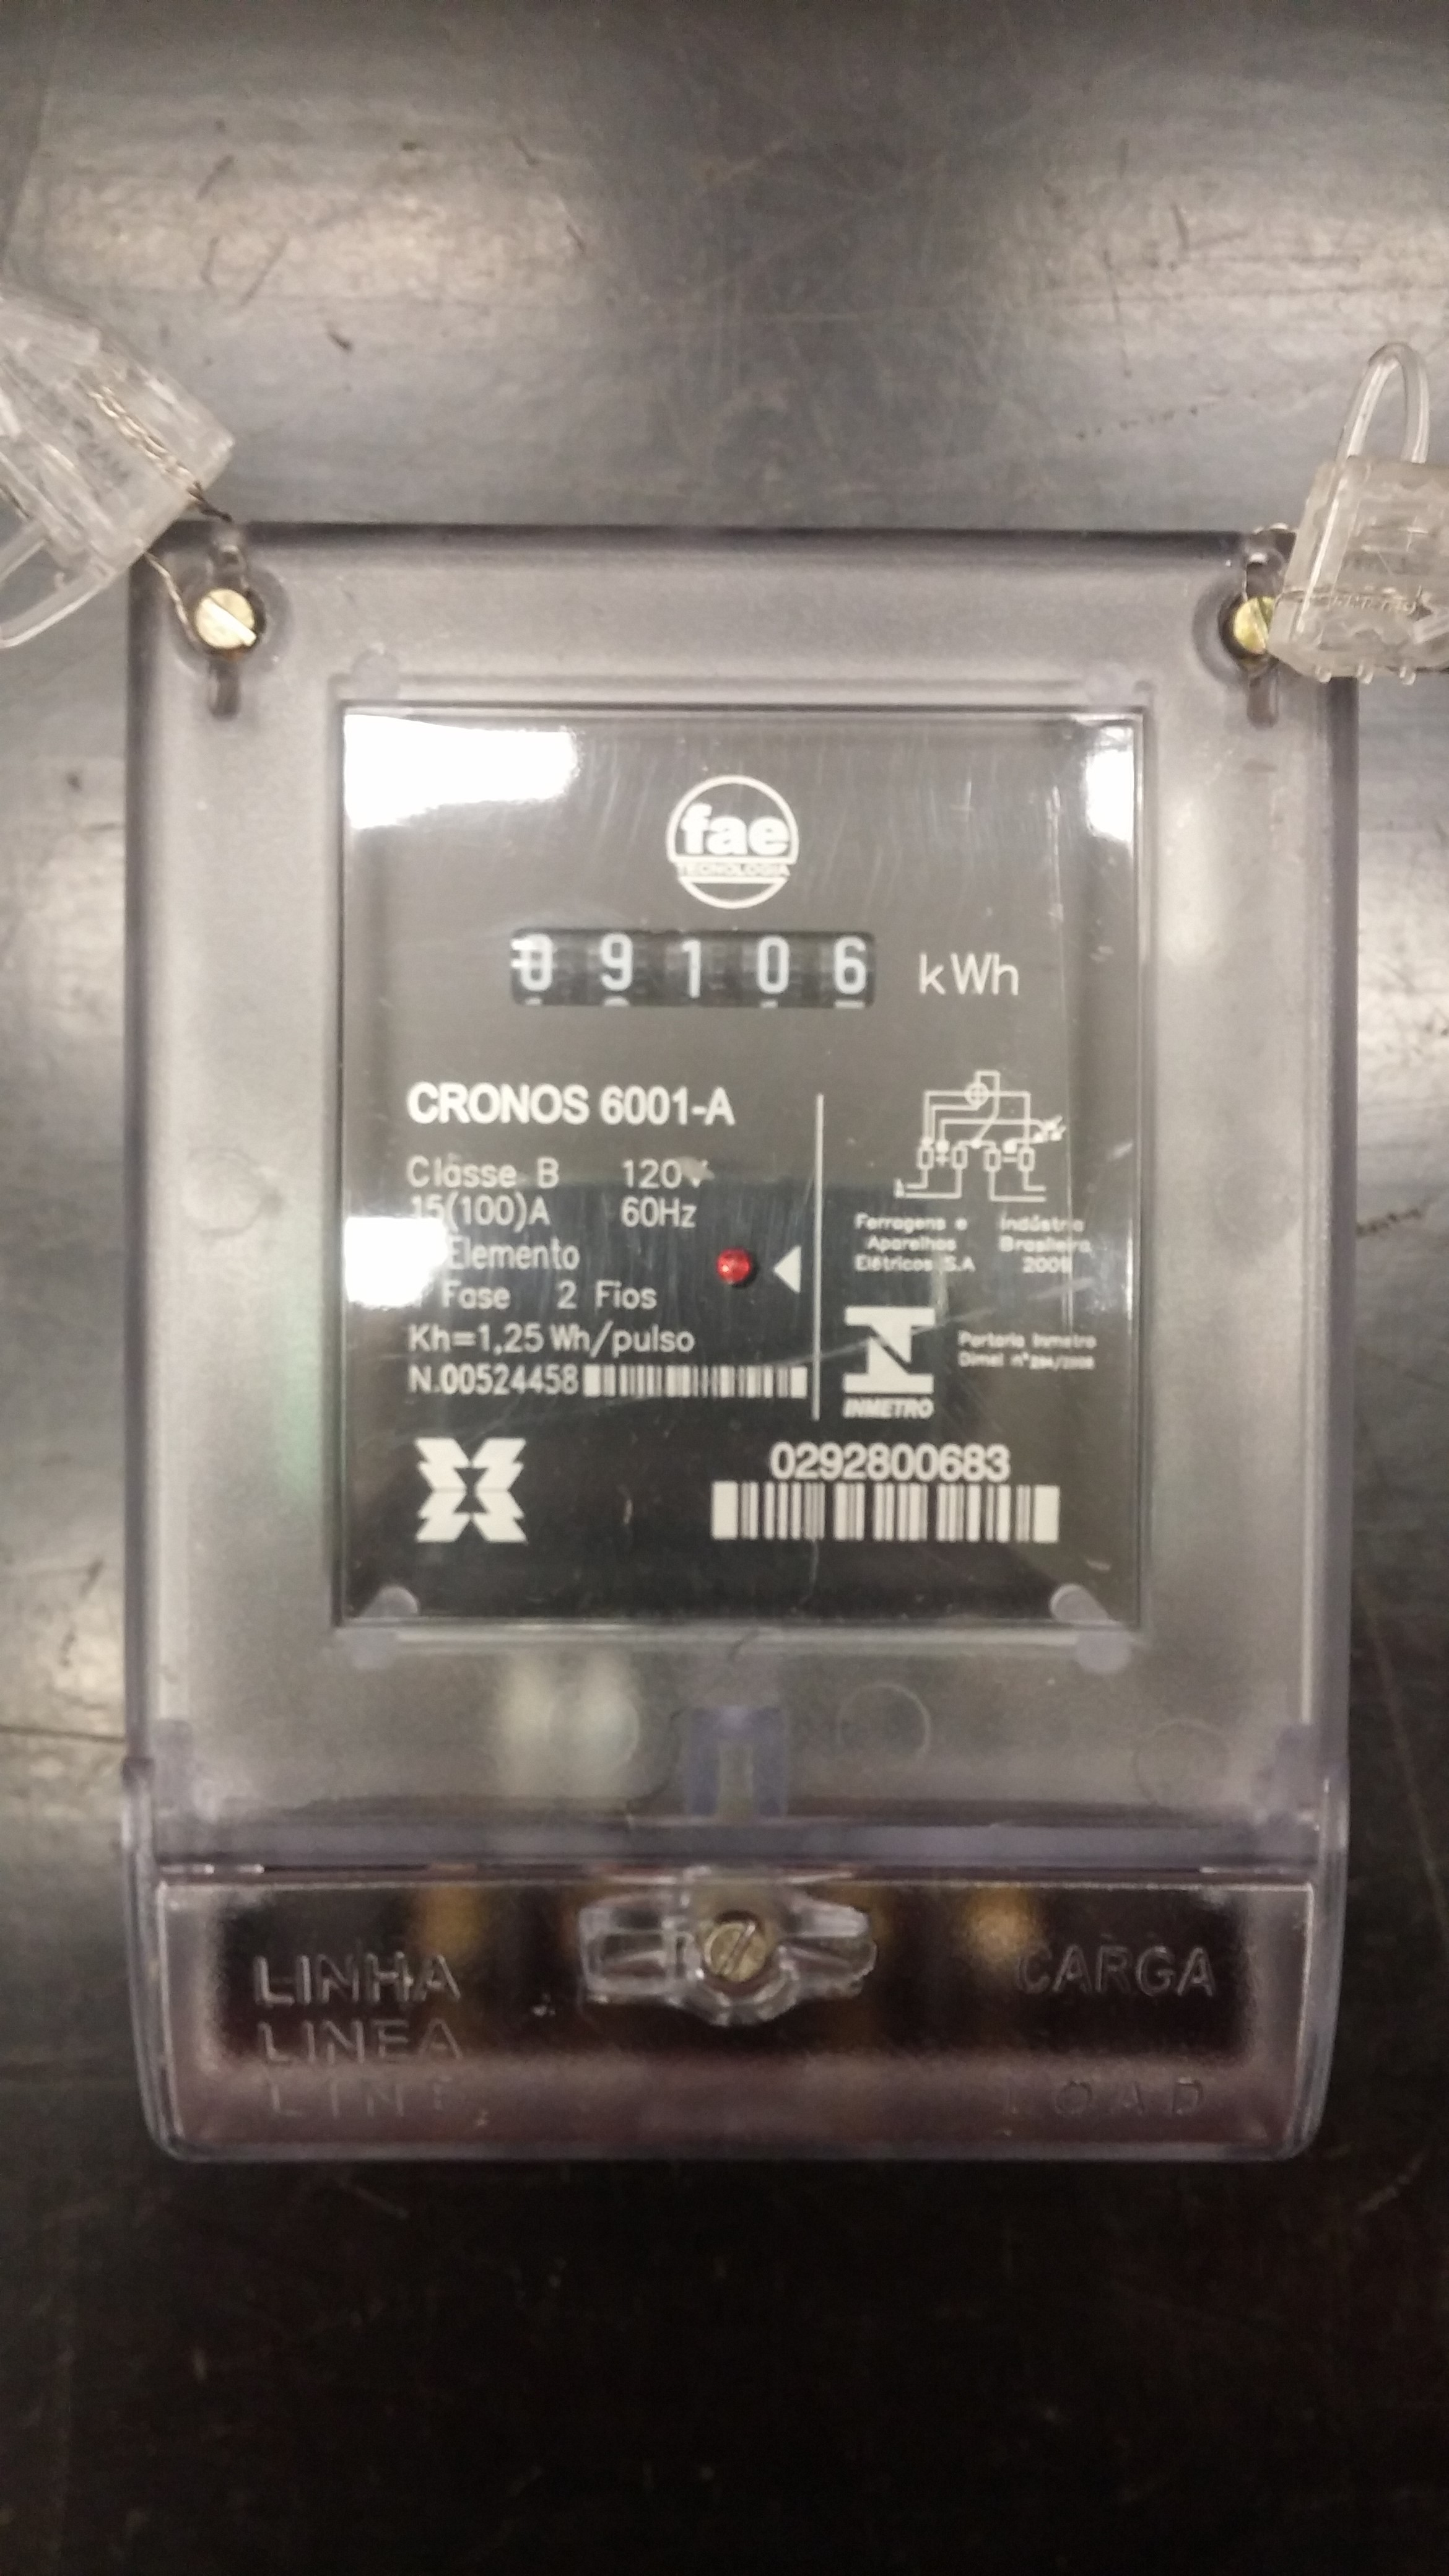counter1: (501, 909, 892, 1030)
